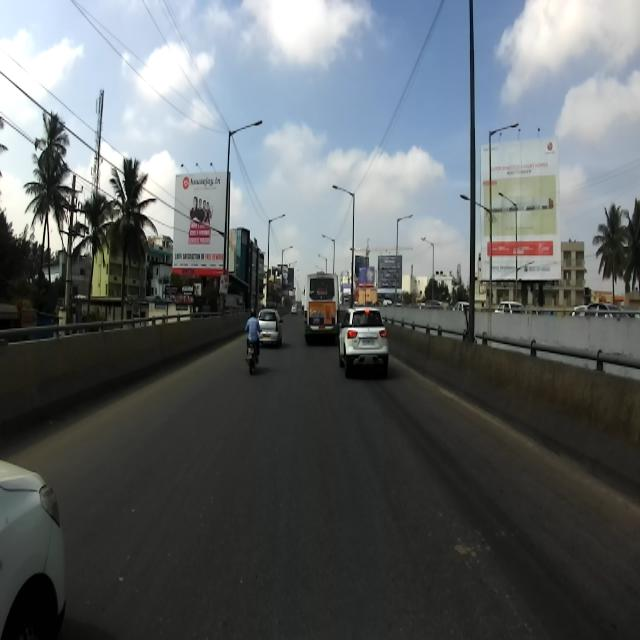car ahead at: (338, 305, 392, 383)
